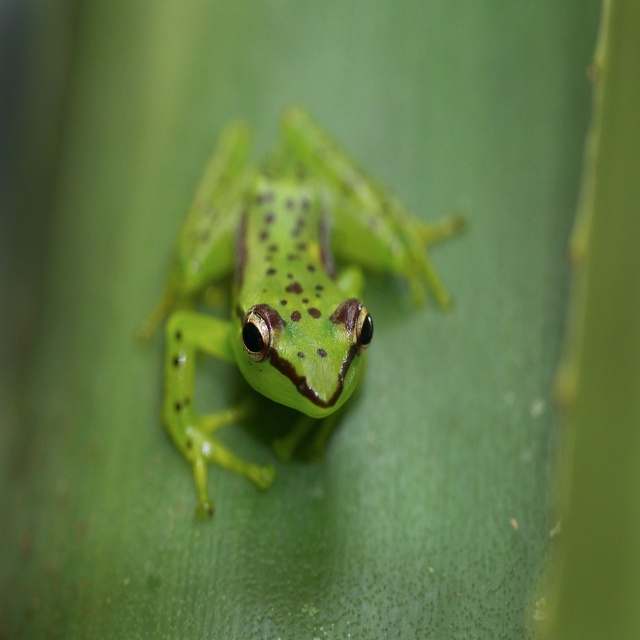Frog: (134, 97, 466, 519)
